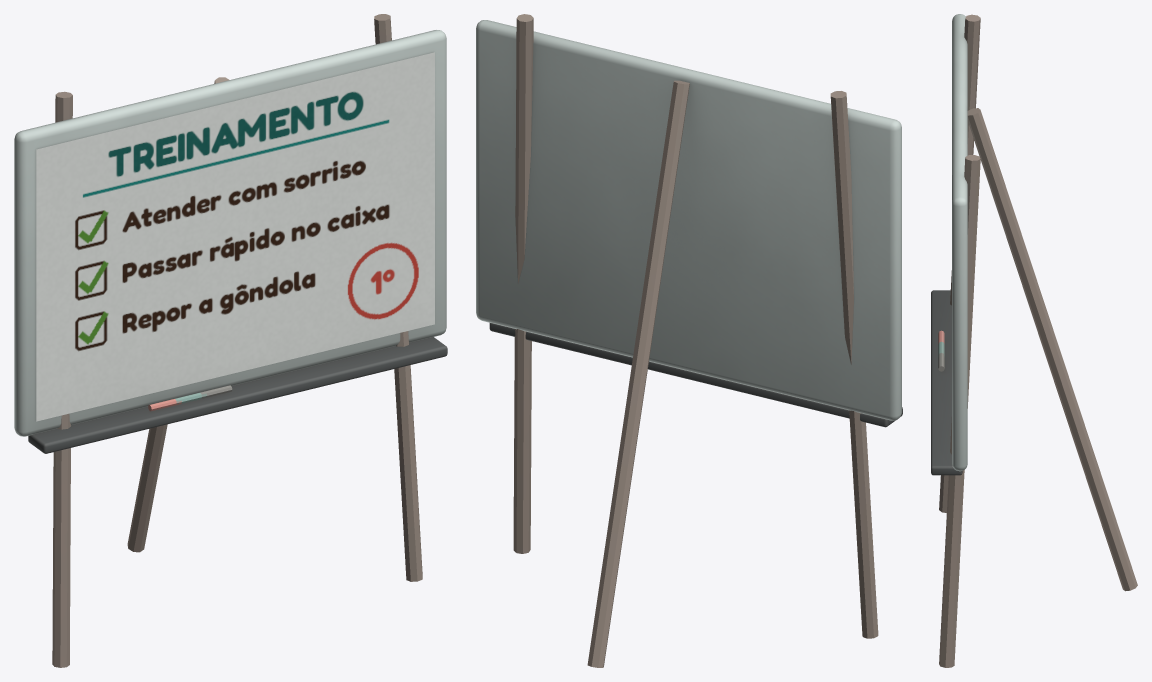
File: TrainingBoard.fbx
3 renders of one model, left to right at view 1: azimuth 30°, elevation 25°; view 2: azimuth 150°, elevation 25°; view 3: azimuth 270°, elevation 25°, orthographic. The views are drawn at different scales.
Visible parts, largest first — view 1: TrainingBoard; view 2: TrainingBoard; view 3: TrainingBoard.
Boxes of the visible parts, x1,y1,x2,y2 form: TrainingBoard: [14, 14, 447, 667]; TrainingBoard: [476, 14, 902, 667]; TrainingBoard: [931, 14, 1137, 667].
Size of the model in its own units: 170 by 211 by 78.87.
